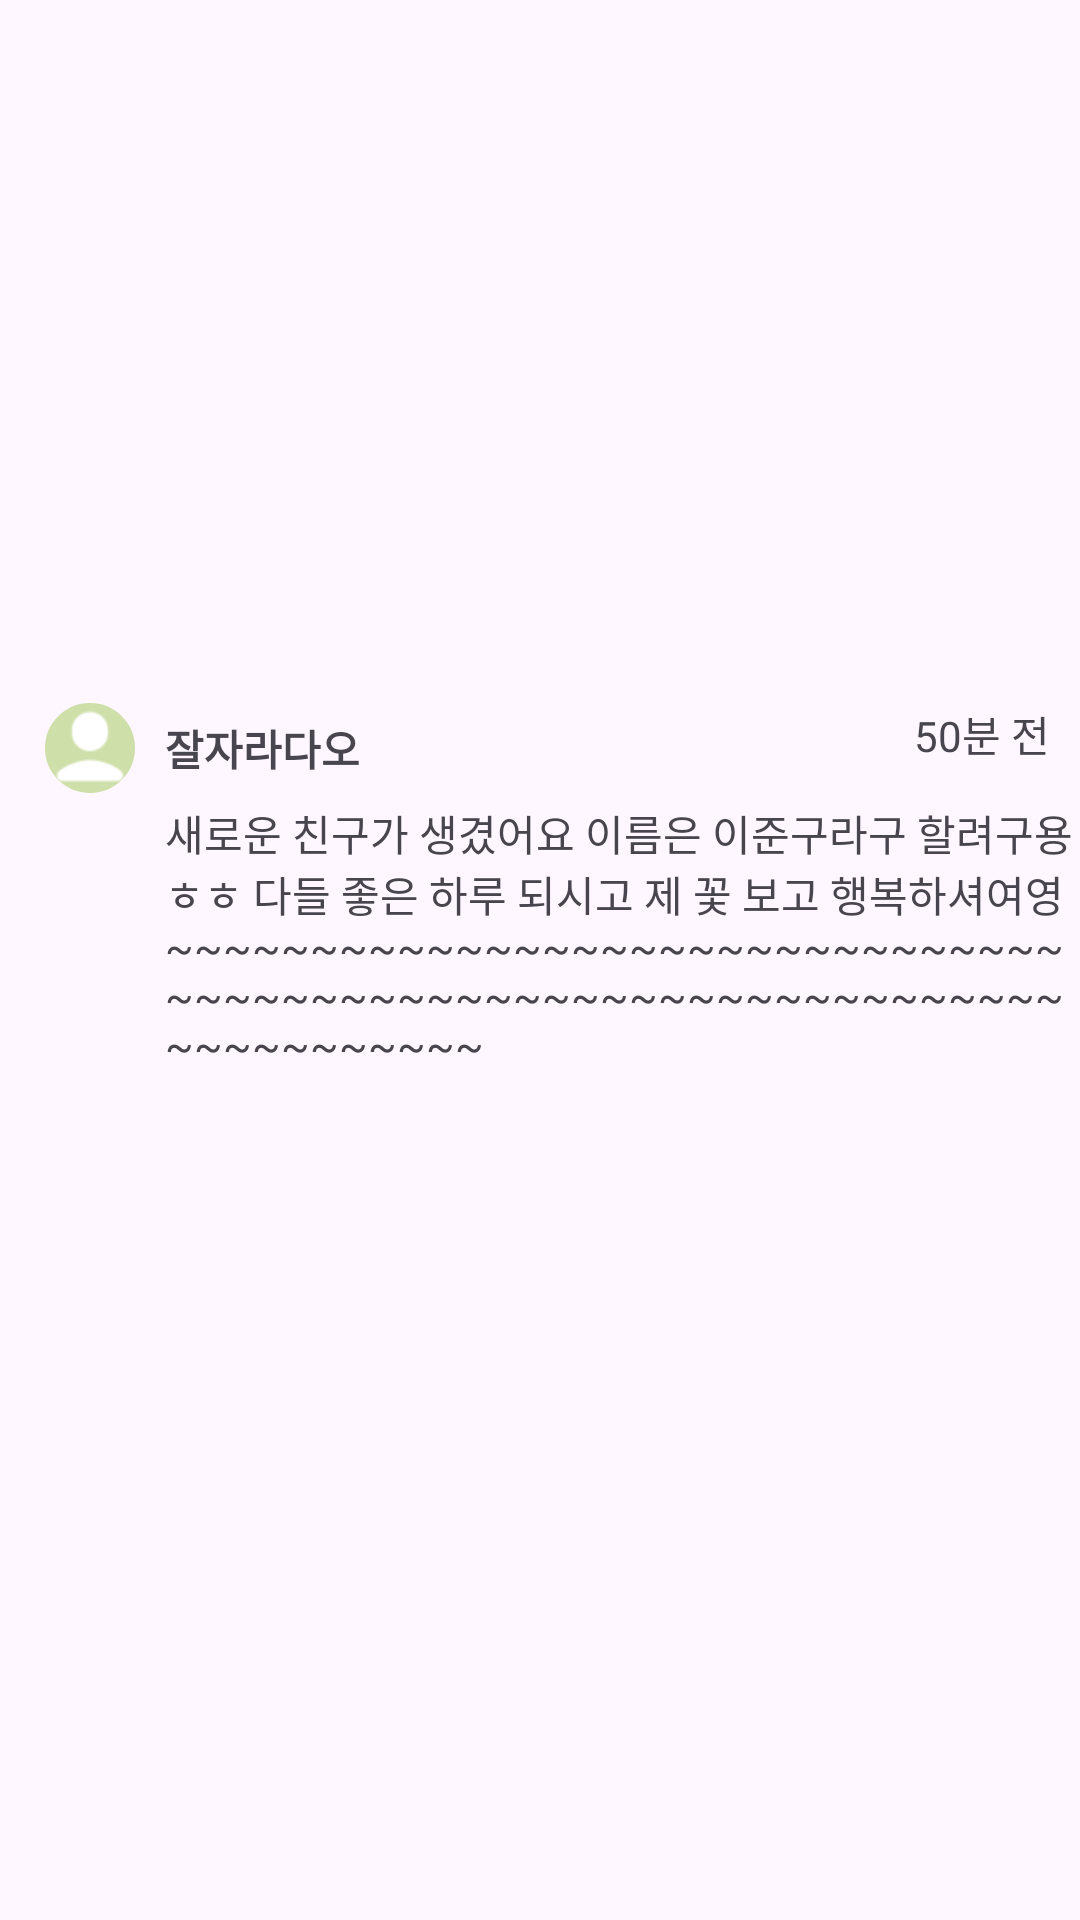

Screen size 1080*1920. Icon name, then its center in pixels as (x=x, y=y):
human: (x=90, y=748)
